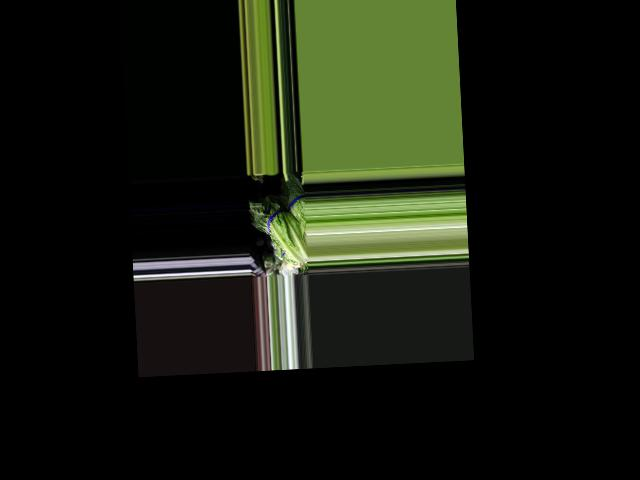lettuce: (252, 195, 308, 262)
